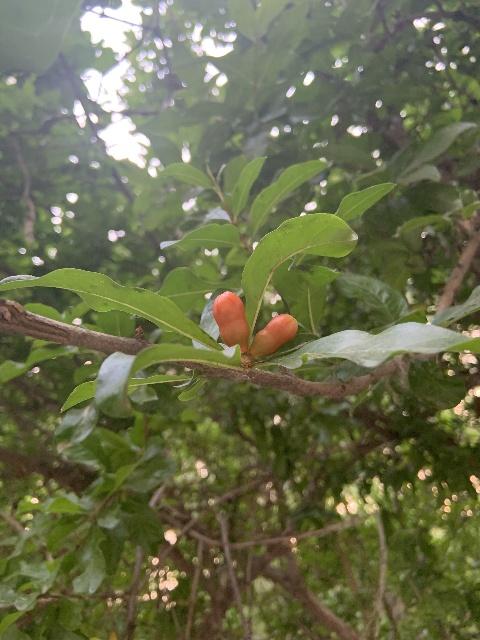bud: (213, 290, 249, 350), (252, 312, 297, 358)
